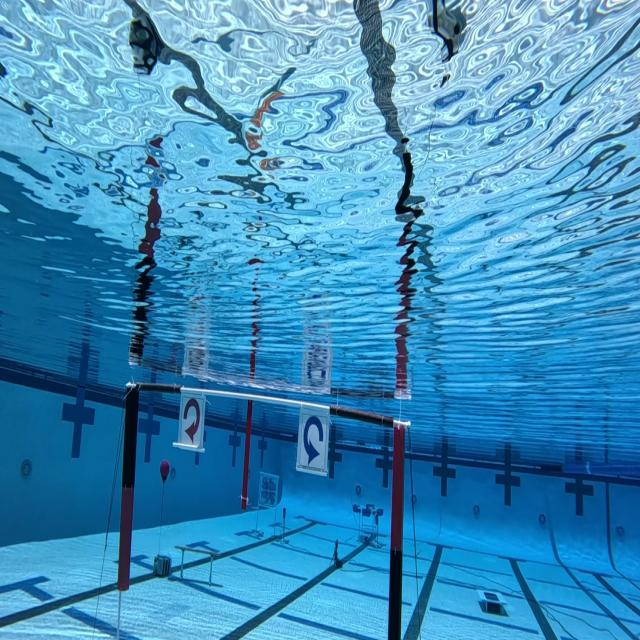blue_side: (298, 404, 328, 471)
red_side: (179, 399, 204, 452)
